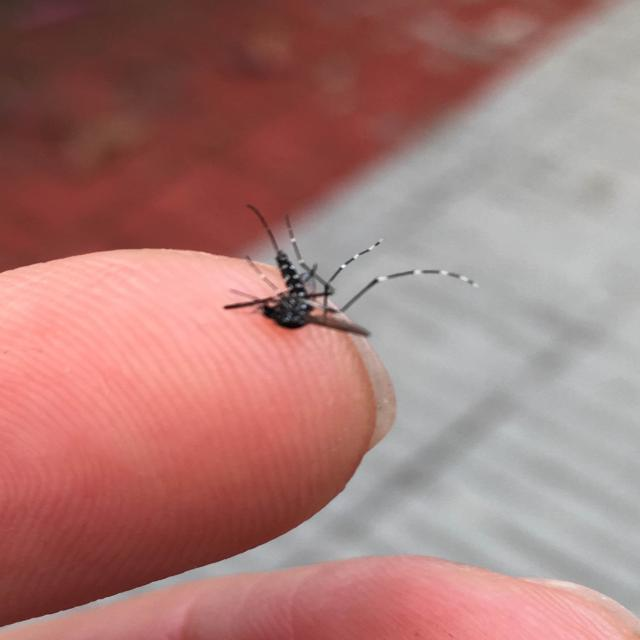albopictus: (218, 204, 474, 353)
